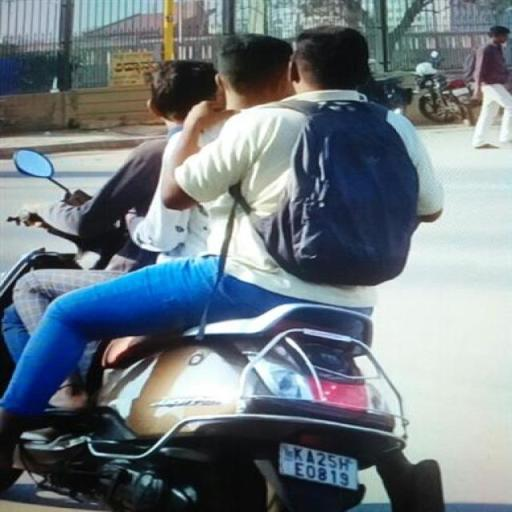tripple riding: (5, 21, 450, 301)
